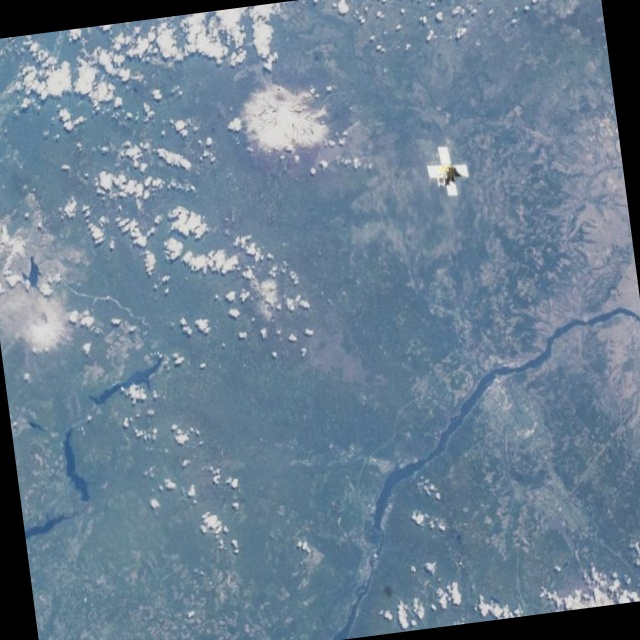satellite: (413, 135, 474, 209)
